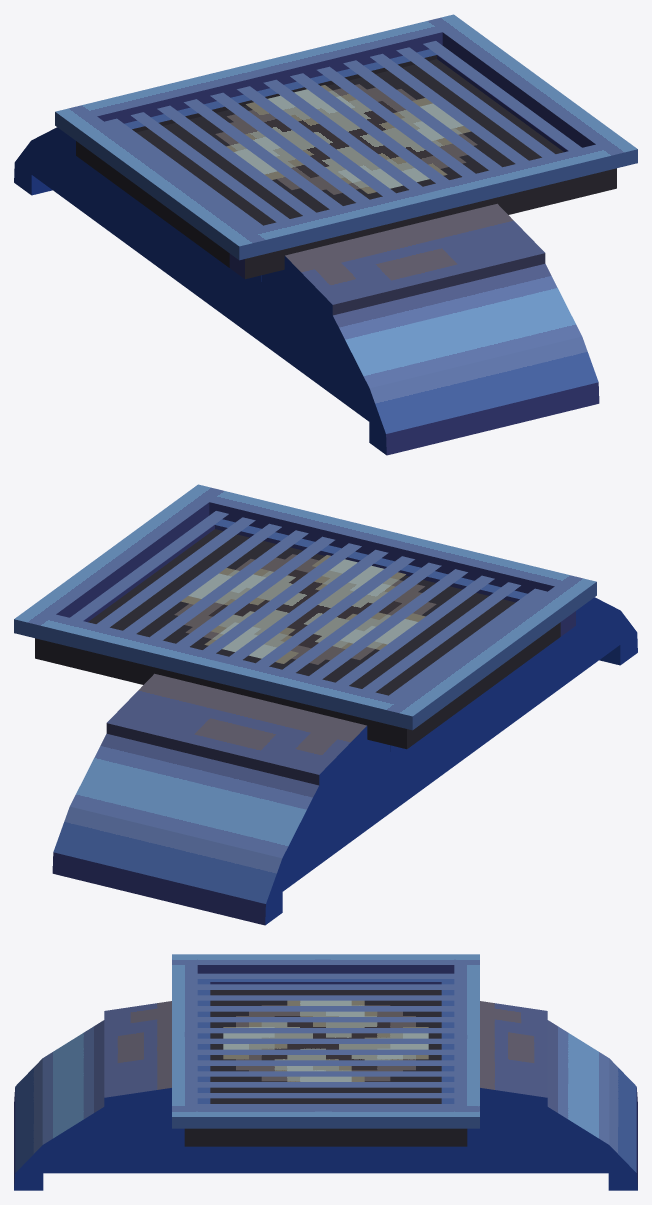
File: df21_radiator_fan_item.obj
The picture shows the model from 3 angles, top to bottom: view 1: azimuth 30°, elevation 25°; view 2: azimuth 150°, elevation 25°; view 3: azimuth 270°, elevation 25°; orthographic projection. The views are drawn at different scales.
Parts seen in each view (by area): view 1: cuboid_selection_selection_selection_selection_selection__part_2, cube__part_1808, 1__part_1847, cube__part_1821, cuboid_selection_selection_selection_selection_selection__part_1, cube__part_1743, cube__part_1834, cube__part_1795, cube__part_1730, cube__part_1756, cube__part_1782, cube__part_1873 (+13 smaller); view 2: cuboid_selection_selection_selection_selection_selection__part_1, cube__part_1821, 1__part_1847, cube__part_1808, cuboid_selection_selection_selection_selection_selection__part_2, cube__part_1743, cube__part_1834, cube__part_1795, cube__part_1756, cube__part_1730, cube__part_1782, cube__part_1873 (+13 smaller); view 3: cuboid_selection_selection_selection_selection_selection__part_1, cuboid_selection_selection_selection_selection_selection__part_2, 1__part_1847, cube__part_1743, cube__part_1795, cube__part_1834, cube__part_1808, cube__part_1821, cube__part_1769, cube__part_1873, cube__part_1886, cube__part_1899 (+13 smaller).
Boxes of the visible parts, bbox=[...] form: cuboid_selection_selection_selection_selection_selection__part_2: bbox=[200, 203, 599, 455]; cube__part_1808: bbox=[224, 138, 637, 260]; 1__part_1847: bbox=[215, 84, 477, 194]; cube__part_1821: bbox=[55, 14, 468, 136]; cuboid_selection_selection_selection_selection_selection__part_1: bbox=[14, 127, 261, 297]; cube__part_1743: bbox=[136, 59, 563, 225]; cube__part_1834: bbox=[70, 116, 249, 248]; cube__part_1795: bbox=[442, 26, 621, 147]; cube__part_1730: bbox=[229, 168, 616, 279]; cube__part_1756: bbox=[76, 49, 436, 166]; cube__part_1782: bbox=[91, 152, 229, 267]; cube__part_1873: bbox=[131, 112, 289, 222]; cuboid_selection_selection_selection_selection_selection__part_1: bbox=[52, 673, 451, 925]; cube__part_1821: bbox=[14, 608, 427, 730]; 1__part_1847: bbox=[174, 554, 436, 664]; cube__part_1808: bbox=[183, 484, 596, 606]; cuboid_selection_selection_selection_selection_selection__part_2: bbox=[451, 597, 637, 767]; cube__part_1743: bbox=[88, 529, 515, 695]; cube__part_1834: bbox=[402, 586, 581, 718]; cube__part_1795: bbox=[30, 496, 209, 617]; cube__part_1756: bbox=[35, 638, 422, 749]; cube__part_1730: bbox=[215, 519, 575, 636]; cube__part_1782: bbox=[422, 622, 560, 737]; cube__part_1873: bbox=[362, 582, 520, 692]; cuboid_selection_selection_selection_selection_selection__part_1: bbox=[326, 1001, 637, 1190]; cuboid_selection_selection_selection_selection_selection__part_2: bbox=[14, 1001, 325, 1190]; 1__part_1847: bbox=[223, 1000, 428, 1081]; cube__part_1743: bbox=[210, 990, 441, 1103]; cube__part_1795: bbox=[197, 1106, 454, 1128]; cube__part_1834: bbox=[197, 954, 454, 973]; cube__part_1808: bbox=[172, 954, 197, 1128]; cube__part_1821: bbox=[454, 954, 479, 1128]; cube__part_1769: bbox=[198, 1128, 441, 1146]; cube__part_1873: bbox=[197, 984, 454, 989]; cube__part_1886: bbox=[197, 1006, 454, 1011]; cube__part_1899: bbox=[197, 995, 454, 1000].
Size of the model in its own units: 1.88 by 0.6875 by 3.04.
